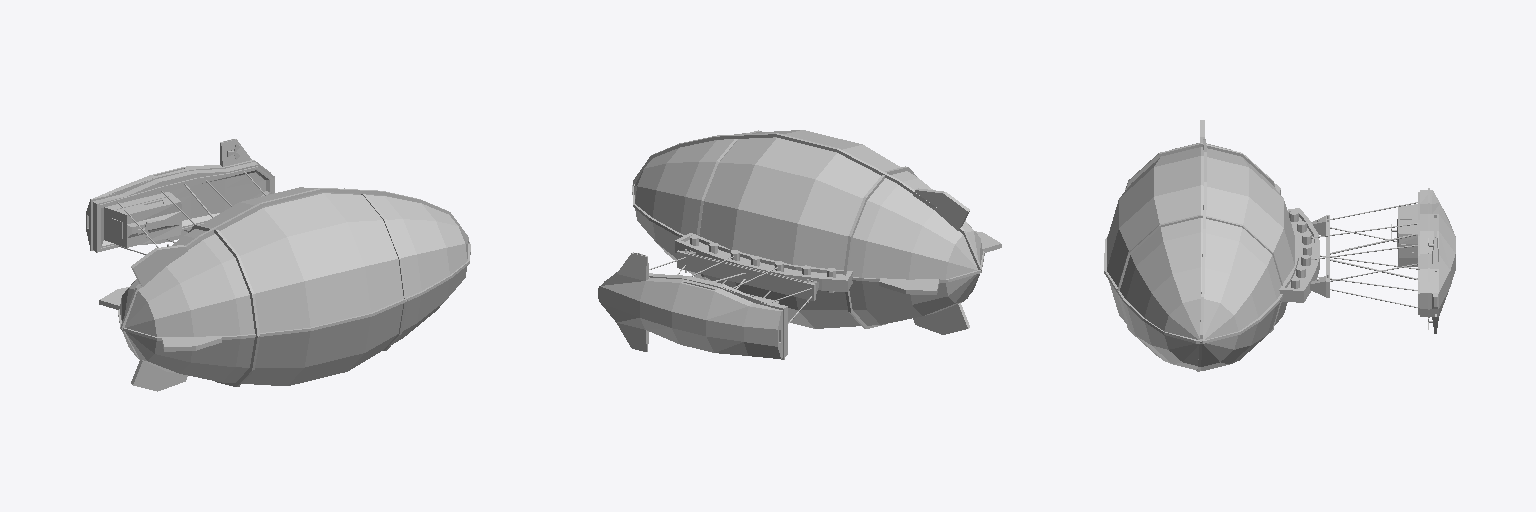
File: CUPIC_AIRSHIP.obj
3 views of the same model, side by side, from view 1: azimuth 30°, elevation 25°; view 2: azimuth 150°, elevation 25°; view 3: azimuth 270°, elevation 25° (orthographic).
Visible parts, largest first — view 1: CUPIC_AIRSHIP; view 2: CUPIC_AIRSHIP; view 3: CUPIC_AIRSHIP.
Boxes of the visible parts, x1=… form: CUPIC_AIRSHIP: x1=86, y1=139, x2=470, y2=391; CUPIC_AIRSHIP: x1=598, y1=130, x2=1001, y2=359; CUPIC_AIRSHIP: x1=1104, y1=120, x2=1455, y2=371.
Size of the model in its own units: 3.76 by 1.81 by 3.28.